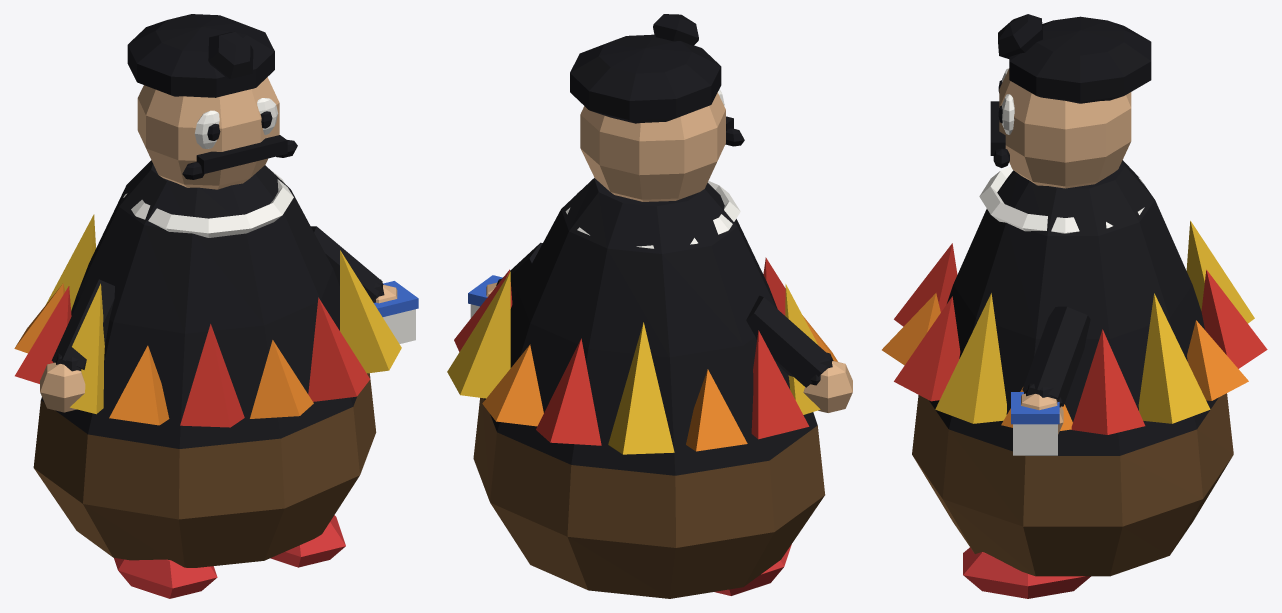
The model's file is npc_don_chuza.glb.
3 views of the same model, side by side, from view 1: azimuth 30°, elevation 25°; view 2: azimuth 150°, elevation 25°; view 3: azimuth 270°, elevation 25° (orthographic). The views are drawn at different scales.
Parts seen in each view (by area): view 1: body_chuza_shirt, body_chuza_slacks, hair_chuza_hair, flames_flame_red, head_skin_trigo, flames_flame_yellow, flames_flame_orange, legs_chuza_shoes, arms_chuza_shirt, collar_chuza_collar, face_chuza_hair, arms_skin_trigo (+3 smaller); view 2: body_chuza_shirt, body_chuza_slacks, hair_chuza_hair, head_skin_trigo, flames_flame_yellow, flames_flame_red, flames_flame_orange, arms_chuza_shirt, arms_skin_trigo, collar_chuza_collar, legs_chuza_shoes; view 3: body_chuza_shirt, body_chuza_slacks, flames_flame_red, flames_flame_yellow, hair_chuza_hair, head_skin_trigo, flames_flame_orange, arms_chuza_shirt, legs_chuza_shoes, collar_chuza_collar, glove_bowling_glove, glove_glove_strap (+2 smaller).
Boxes of the visible parts, left/top/right/bottom form: body_chuza_shirt: left=41, top=160, right=356, bottom=448; body_chuza_slacks: left=33, top=373, right=376, bottom=567; hair_chuza_hair: left=127, top=14, right=274, bottom=97; flames_flame_red: left=15, top=286, right=370, bottom=427; head_skin_trigo: left=137, top=77, right=279, bottom=189; flames_flame_yellow: left=46, top=214, right=401, bottom=414; flames_flame_orange: left=14, top=283, right=313, bottom=425; legs_chuza_shoes: left=114, top=515, right=345, bottom=598; arms_chuza_shirt: left=51, top=226, right=384, bottom=371; collar_chuza_collar: left=123, top=171, right=293, bottom=237; face_chuza_hair: left=182, top=135, right=297, bottom=179; arms_skin_trigo: left=40, top=284, right=397, bottom=412; body_chuza_shirt: left=484, top=178, right=817, bottom=475; body_chuza_slacks: left=473, top=398, right=825, bottom=598; hair_chuza_hair: left=570, top=14, right=721, bottom=123; head_skin_trigo: left=580, top=92, right=725, bottom=201; flames_flame_yellow: left=447, top=271, right=820, bottom=454; flames_flame_red: left=454, top=257, right=809, bottom=445; flames_flame_orange: left=482, top=315, right=837, bottom=451; arms_chuza_shirt: left=496, top=242, right=833, bottom=387; arms_skin_trigo: left=486, top=282, right=852, bottom=412; collar_chuza_collar: left=565, top=181, right=740, bottom=248; legs_chuza_shoes: left=715, top=544, right=791, bottom=595; body_chuza_shirt: left=929, top=160, right=1218, bottom=455; body_chuza_slacks: left=912, top=393, right=1233, bottom=576; flames_flame_red: left=894, top=243, right=1267, bottom=434; flames_flame_yellow: left=935, top=220, right=1254, bottom=423; hair_chuza_hair: left=998, top=14, right=1151, bottom=103; head_skin_trigo: left=999, top=68, right=1131, bottom=188; flames_flame_orange: left=882, top=293, right=1248, bottom=430; arms_chuza_shirt: left=1022, top=306, right=1090, bottom=407; legs_chuza_shoes: left=963, top=547, right=1090, bottom=598; collar_chuza_collar: left=979, top=166, right=1144, bottom=233; glove_bowling_glove: left=1013, top=424, right=1057, bottom=455; glove_glove_strap: left=1011, top=392, right=1059, bottom=424.
Bounding box in the file's own units: 1.13 × 1.6 × 1.03.
